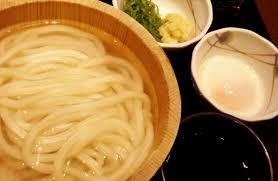kamaage: (1, 1, 188, 181)
